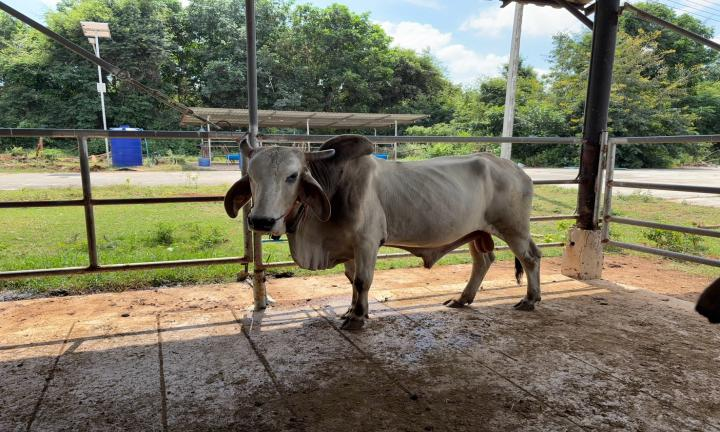Brahman: (224, 135, 541, 329)
